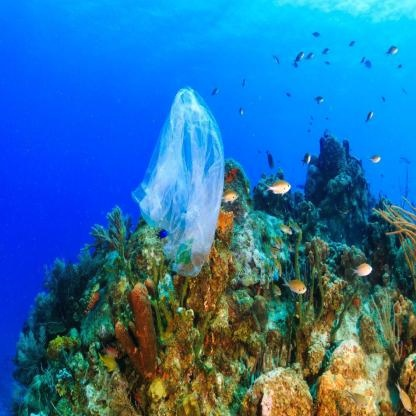pbag: (130, 84, 226, 277)
